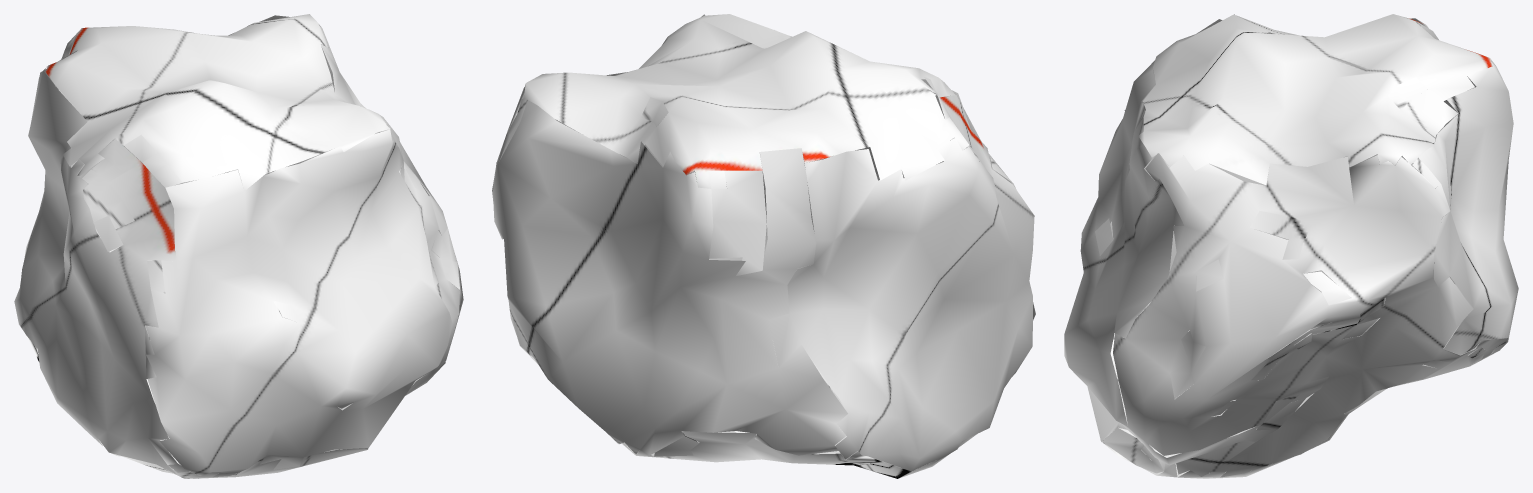
File: asteroide1.obj
The picture shows the model from 3 angles, left to right: view 1: azimuth 30°, elevation 25°; view 2: azimuth 150°, elevation 25°; view 3: azimuth 270°, elevation 25°; orthographic projection. The views are drawn at different scales.
Parts seen in each view (by area): view 1: Asteroid_no_1_Material_#3_0; view 2: Asteroid_no_1_Material_#3_0; view 3: Asteroid_no_1_Material_#3_0.
Boxes of the visible parts, x1,y1,x2,y2 form: Asteroid_no_1_Material_#3_0: (14,14,463,478); Asteroid_no_1_Material_#3_0: (492,14,1035,478); Asteroid_no_1_Material_#3_0: (1064,14,1518,478).
Bounding box in the file's own units: 0.7413 × 0.7002 × 0.7267.
